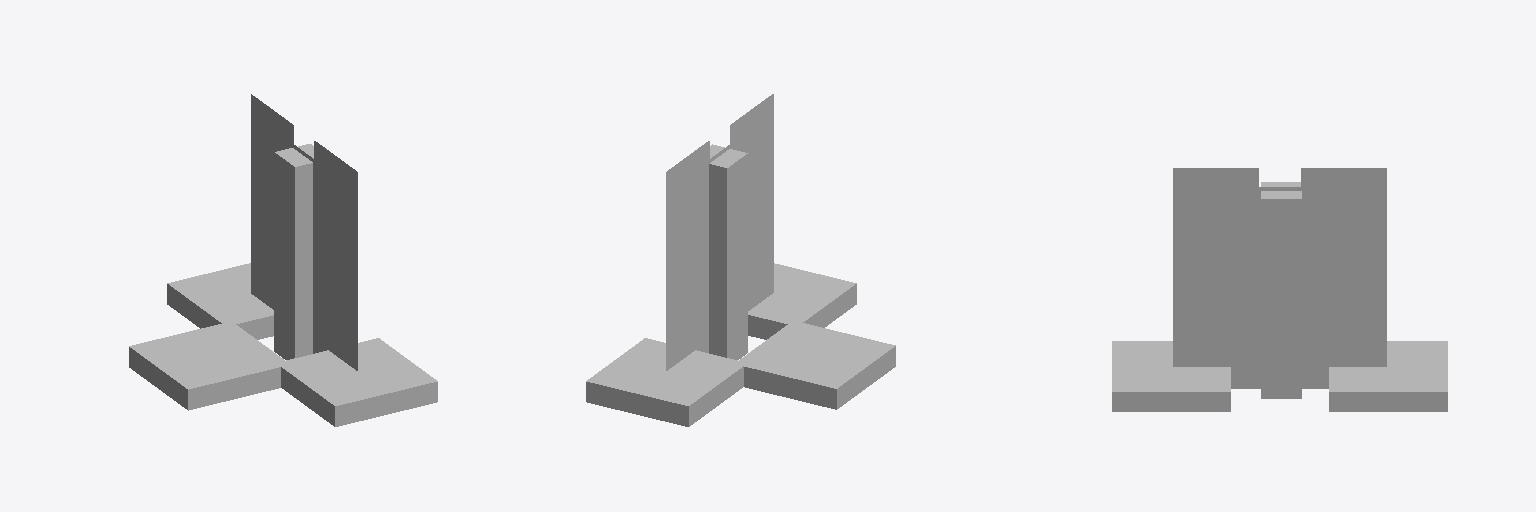
The model's file is Brewing Stand.obj.
3 views of the same model, side by side, from view 1: azimuth 30°, elevation 25°; view 2: azimuth 150°, elevation 25°; view 3: azimuth 270°, elevation 25° (orthographic).
Visible parts, largest first — view 1: Brewing_Stand; view 2: Brewing_Stand; view 3: Brewing_Stand.
Boxes of the visible parts, x1,y1,x2,y2 form: Brewing_Stand: [129, 94, 437, 426]; Brewing_Stand: [586, 94, 895, 426]; Brewing_Stand: [1112, 168, 1447, 411].
Size of the model in its own units: 1.11 by 1.2 by 1.65.